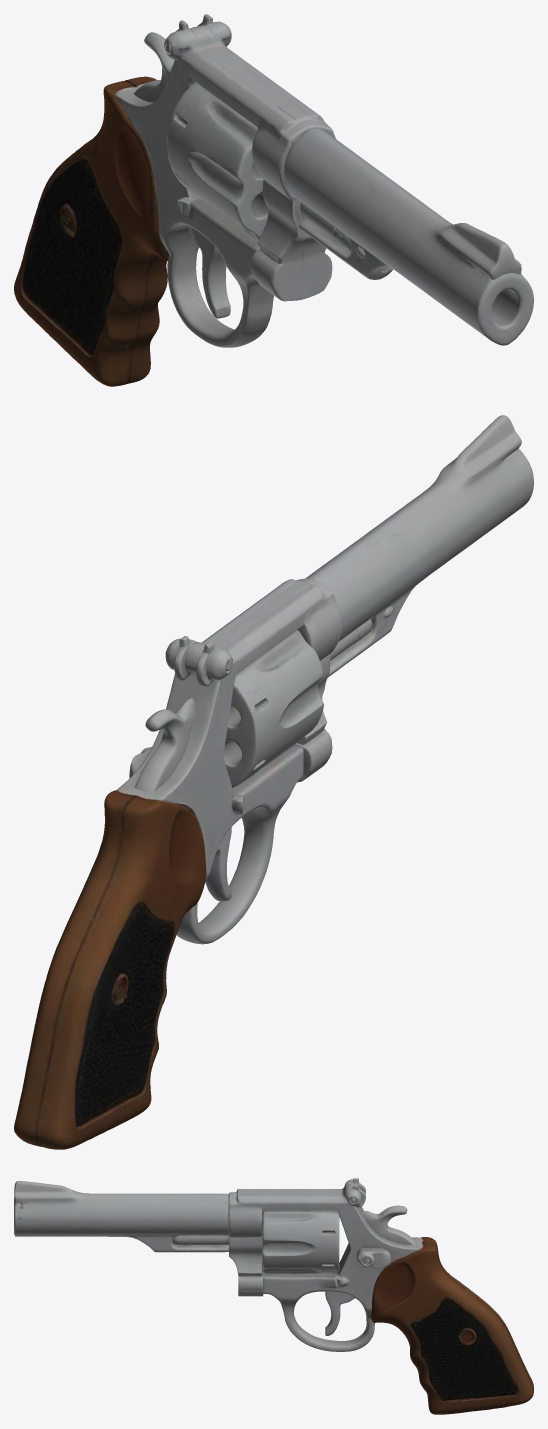
Rendered from revolver.lo.glb.
3 views of the same model, one above another, from view 1: azimuth 30°, elevation 25°; view 2: azimuth 150°, elevation 25°; view 3: azimuth 270°, elevation 25° (orthographic). The views are drawn at different scales.
Parts seen in each view (by area): view 1: model; view 2: model; view 3: model.
Boxes of the visible parts, x1,y1,x2,y2 form: model: (14,14,533,386); model: (14,415,533,1149); model: (14,1178,533,1414).
Size of the model in its own units: 0.2122 by 0.9253 by 1.9.
Materials: 1 (1 with a texture image).
